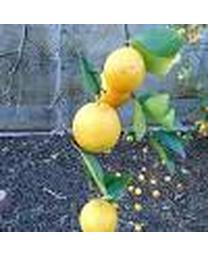lemon: (73, 102, 121, 153), (104, 46, 145, 92), (81, 203, 118, 233)
